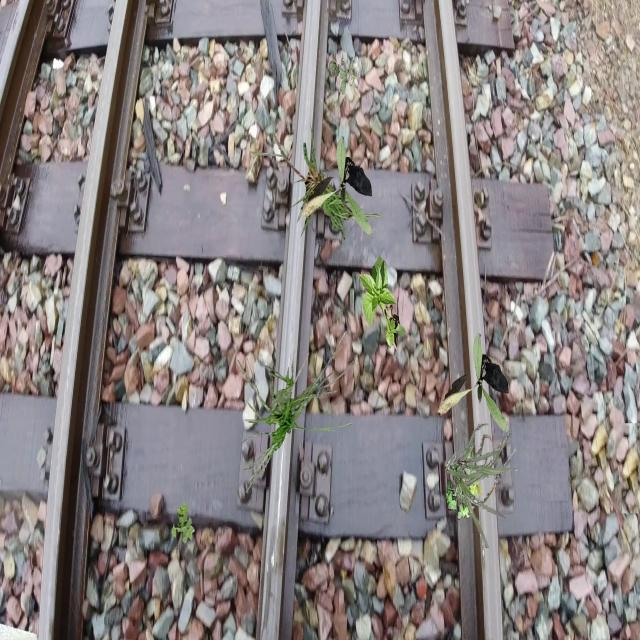Plant: (235, 330, 354, 493), (249, 121, 392, 240), (445, 424, 518, 548), (437, 333, 508, 432), (301, 136, 372, 235), (358, 256, 406, 351), (445, 449, 482, 522), (329, 54, 356, 95), (171, 503, 195, 544)
